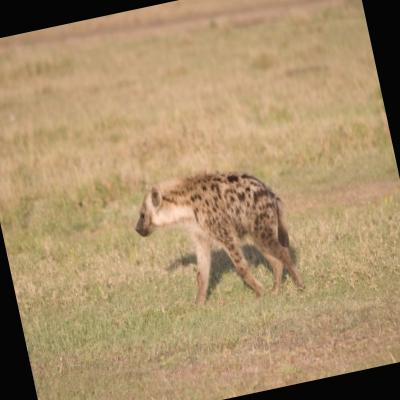hyenas: (105, 122, 349, 352)
